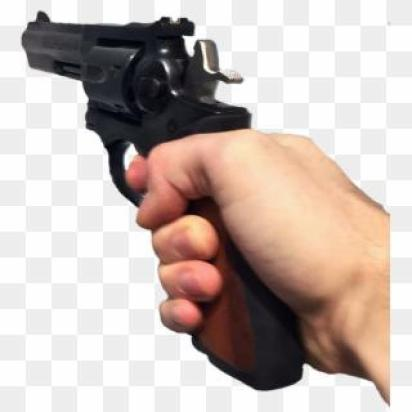Gun: (14, 2, 316, 398)
